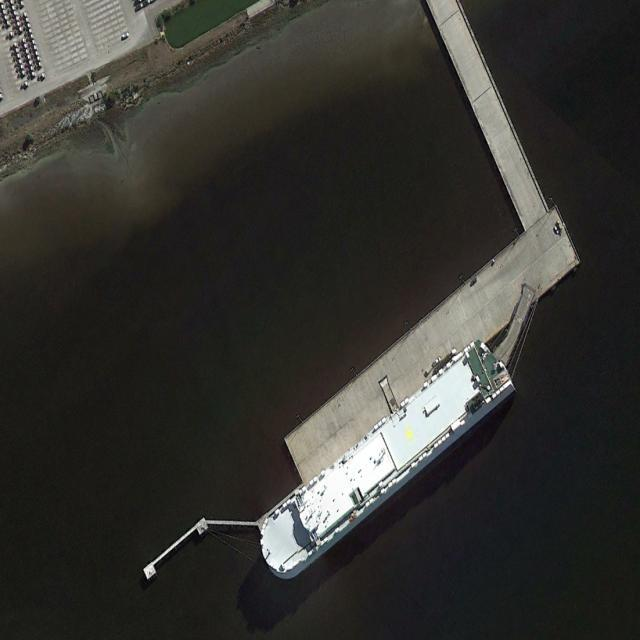RoRo: (252, 328, 516, 590)
